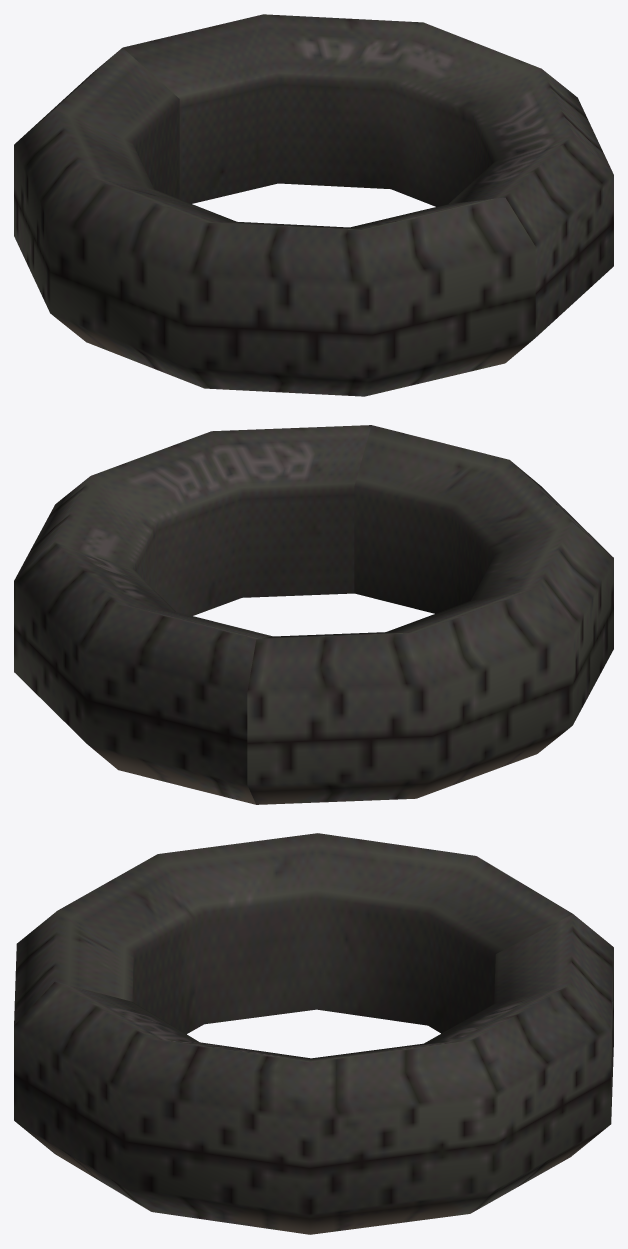
Rendered from tire_old.obj.
3 renders of one model, top to bottom at view 1: azimuth 30°, elevation 25°; view 2: azimuth 150°, elevation 25°; view 3: azimuth 270°, elevation 25°, orthographic. The views are drawn at different scales.
Parts seen in each view (by area): view 1: tire_old; view 2: tire_old; view 3: tire_old.
Part boxes in pixels (box(x1,y1,x2,y2)): tire_old: box(14, 14, 613, 396); tire_old: box(14, 425, 613, 804); tire_old: box(14, 833, 613, 1234).
Size of the model in its own units: 0.6599 by 0.2 by 0.6305.
Materials: 1 (1 with a texture image).
